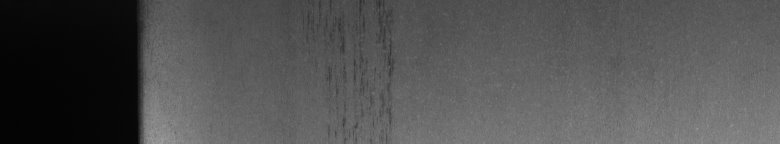ka: (303, 4, 396, 136)
